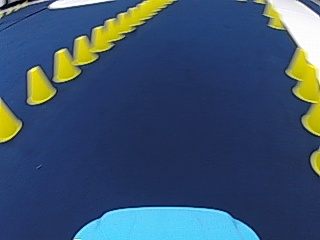cone: (287, 50, 319, 99), (24, 64, 56, 104), (284, 44, 311, 81), (51, 47, 79, 82), (0, 98, 22, 141), (301, 99, 319, 135), (71, 35, 93, 64), (88, 25, 110, 52), (100, 18, 119, 42), (114, 12, 130, 34), (309, 148, 319, 176)
